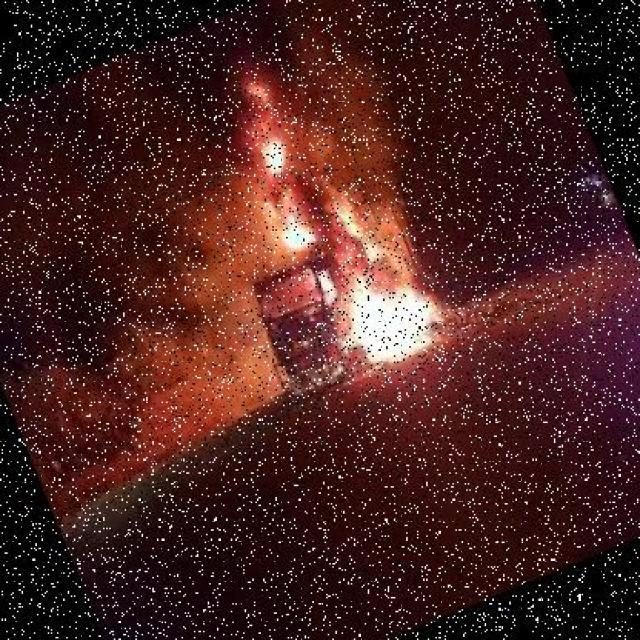fire: (240, 195, 483, 403), (194, 38, 377, 270)
